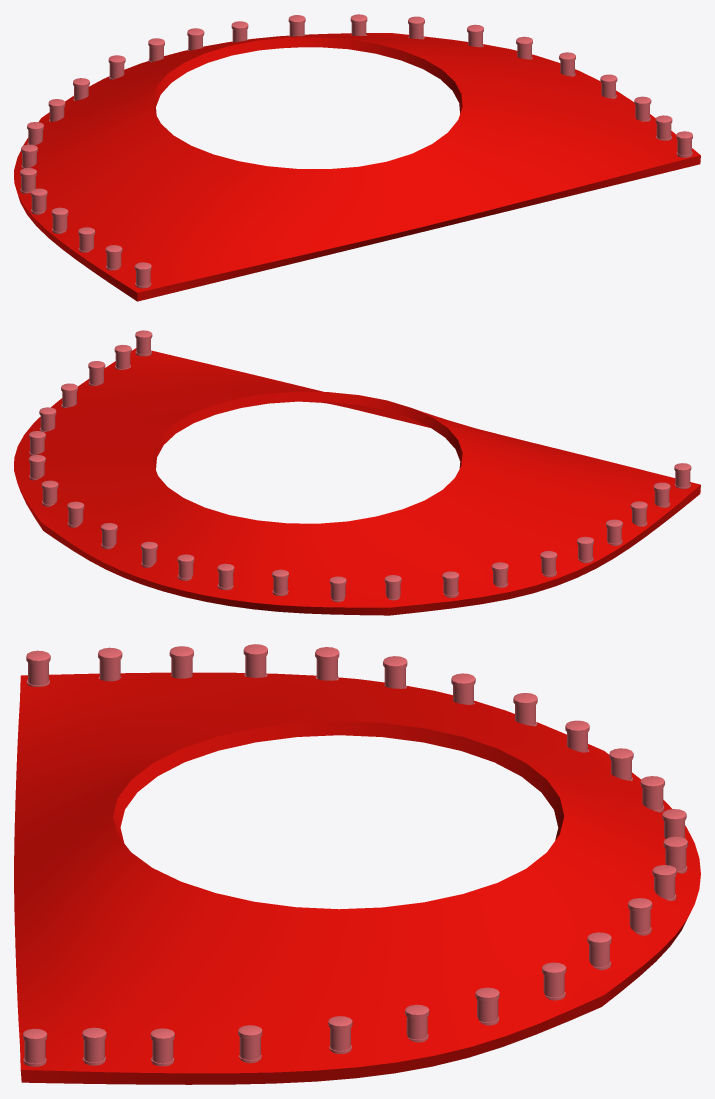
The model's file is Mesh Roof.fbx.
3 renders of one model, top to bottom at view 1: azimuth 30°, elevation 25°; view 2: azimuth 150°, elevation 25°; view 3: azimuth 270°, elevation 25°, orthographic. The views are drawn at different scales.
Visible parts, largest first — view 1: Roof; view 2: Roof; view 3: Roof.
Boxes of the visible parts, left/top/right/bottom form: Roof: left=14, top=14, right=700, bottom=301; Roof: left=14, top=330, right=700, bottom=615; Roof: left=14, top=644, right=700, bottom=1084.
Size of the model in its own units: 3796 by 5241 by 430.
